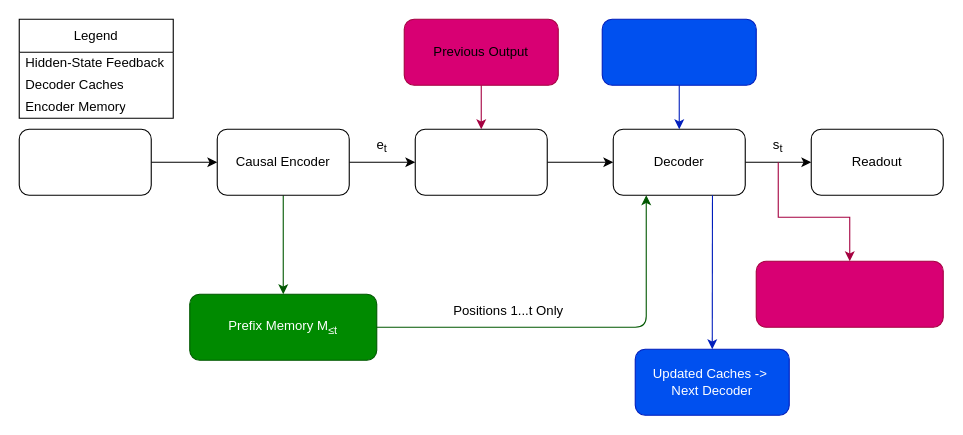
The diagram is 963 pixels wide and 435 high, and some of its shapes have lost their labels. The centre of each missing label's shape, as x and y in pixels:
"Gated Merge" goes at (480,161).
"Next merge" goes at (849,293).
"Previous Per-Layer Caches (C D t-1 )" goes at (678,51).
"Token x t" goes at (84,161).
